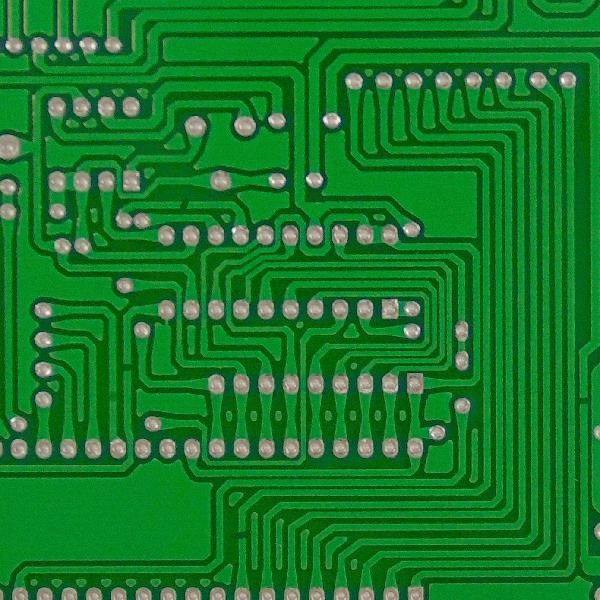open_circuit: (173, 197, 192, 212), (235, 528, 249, 544), (122, 361, 133, 375), (578, 394, 589, 406)
